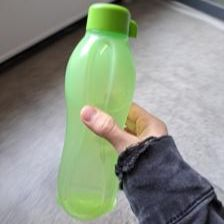bottle: (53, 3, 139, 223)
